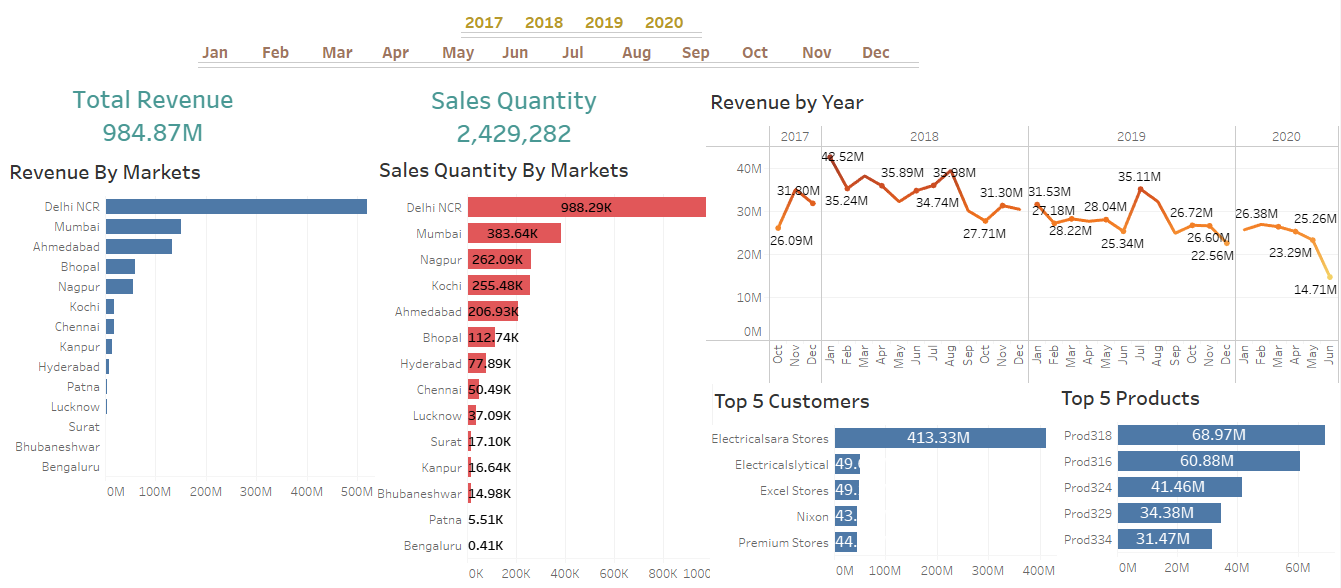

The dashboard page shown, as its layout file describes it:
{"tool":"tableau","page":{"name":"Dashboard - Revenue Analysis","canvas":[1000,1000],"units":"permille","ordinal":1},"visuals":[{"type":"worksheet","title":"Year","mark":"Automatic","cols":["cy_date"],"box":[344.3,22,205.9,60.8]},{"type":"worksheet","title":"Month","mark":"Automatic","cols":["cy_date"],"box":[147.7,72.6,610.1,55.7]},{"type":"worksheet","title":"Revenue","mark":"Automatic","box":[47.3,140.2,157,123.3]},{"type":"worksheet","title":"Quantity","mark":"Automatic","box":[316.5,141.9,178.1,130.1]},{"type":"worksheet","title":"Revenue by Year","mark":"Automatic","rows":["normalized_amount"],"cols":["cy_date","cy_date"],"box":[526.6,141.9,472.6,508.4]},{"type":"worksheet","title":"Revenue By Markets","mark":"Automatic","rows":["markets_name"],"cols":["normalized_amount"],"box":[3.4,260.1,280.2,738.2]},{"type":"worksheet","title":"Top 5 Products","mark":"Automatic","rows":["product_code"],"cols":["normalized_amount"],"box":[789,641.9,207.6,348]},{"type":"worksheet","title":"Top 5 Customers","mark":"Automatic","rows":["custmer_name"],"cols":["normalized_amount"],"box":[530,647,259.1,344.6]}]}

Visuals, with their boxes on the dashboard's canvas, which has no fixed pixel size, in thousandths of its width and height (x1, y1, x2, y2). These are canvas units, not pixel positions in the 1341x588 screenshot, which may show the page scaled, cropped or inside an application window:
"Year" worksheet: bbox=[344, 22, 550, 83]
"Month" worksheet: bbox=[148, 73, 758, 128]
"Revenue" worksheet: bbox=[47, 140, 204, 264]
"Quantity" worksheet: bbox=[316, 142, 495, 272]
"Revenue by Year" worksheet: bbox=[527, 142, 999, 650]
"Revenue By Markets" worksheet: bbox=[3, 260, 284, 998]
"Top 5 Products" worksheet: bbox=[789, 642, 997, 990]
"Top 5 Customers" worksheet: bbox=[530, 647, 789, 992]
